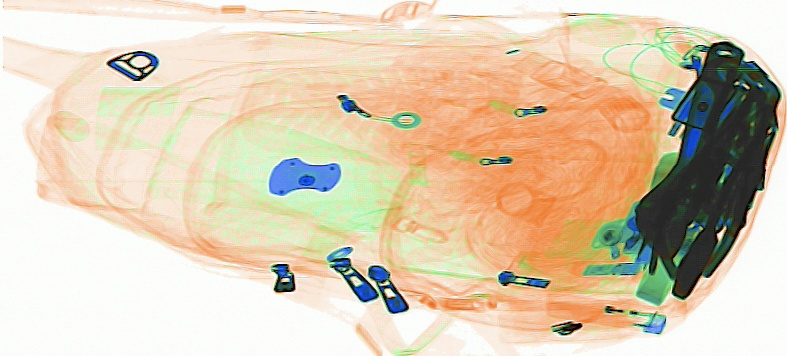lighter: (544, 293, 667, 335)
